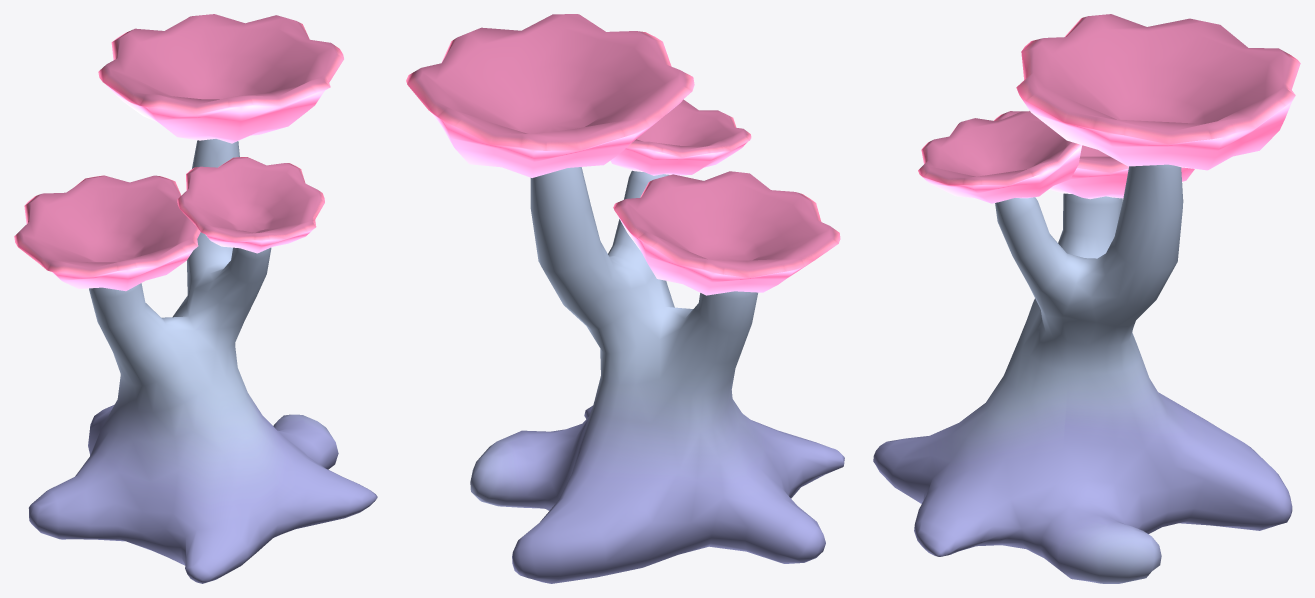
File: SM_Tree_5_.fbx
The picture shows the model from 3 angles, left to right: view 1: azimuth 30°, elevation 25°; view 2: azimuth 150°, elevation 25°; view 3: azimuth 270°, elevation 25°; orthographic projection. The views are drawn at different scales.
Visible parts, largest first — view 1: Trouc_Gros_LP, Feuilles_Abres2_LP.011, Feuilles_Abres2_LP.008, Feuilles_Abres2_LP.007; view 2: Trouc_Gros_LP, Feuilles_Abres2_LP.011, Feuilles_Abres2_LP.008, Feuilles_Abres2_LP.007; view 3: Trouc_Gros_LP, Feuilles_Abres2_LP.011, Feuilles_Abres2_LP.007, Feuilles_Abres2_LP.008.
Part boxes in pixels (x1=…): Trouc_Gros_LP: x1=28, y1=139, x2=377, y2=583; Feuilles_Abres2_LP.011: x1=98, y1=14, x2=343, y2=143; Feuilles_Abres2_LP.008: x1=14, y1=175, x2=200, y2=291; Feuilles_Abres2_LP.007: x1=177, y1=157, x2=324, y2=253; Trouc_Gros_LP: x1=470, y1=167, x2=844, y2=583; Feuilles_Abres2_LP.011: x1=406, y1=14, x2=694, y2=177; Feuilles_Abres2_LP.008: x1=613, y1=171, x2=840, y2=295; Feuilles_Abres2_LP.007: x1=610, y1=99, x2=751, y2=175; Trouc_Gros_LP: x1=873, y1=164, x2=1292, y2=583; Feuilles_Abres2_LP.011: x1=1016, y1=14, x2=1300, y2=170; Feuilles_Abres2_LP.007: x1=918, y1=111, x2=1082, y2=203; Feuilles_Abres2_LP.008: x1=994, y1=111, x2=1194, y2=199.
Bounding box in the file's own units: 89.51 × 113 × 88.37.
